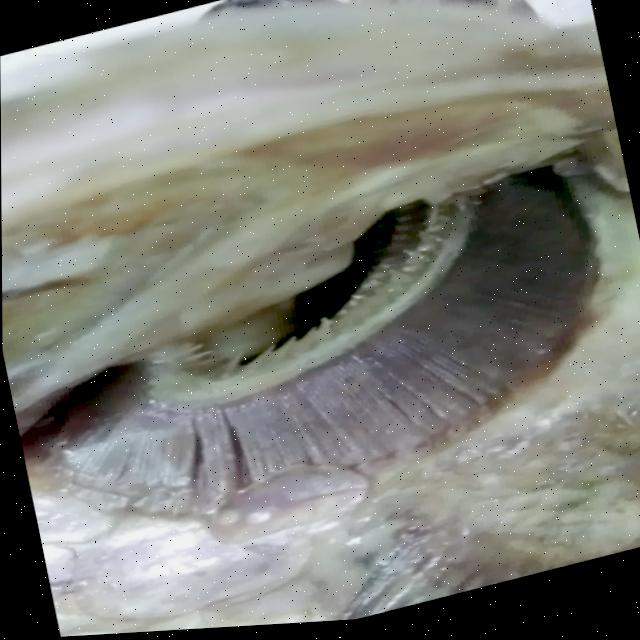Non-Fresh: (15, 136, 640, 559)
